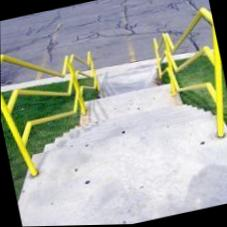Animal: (37, 86, 219, 194)
